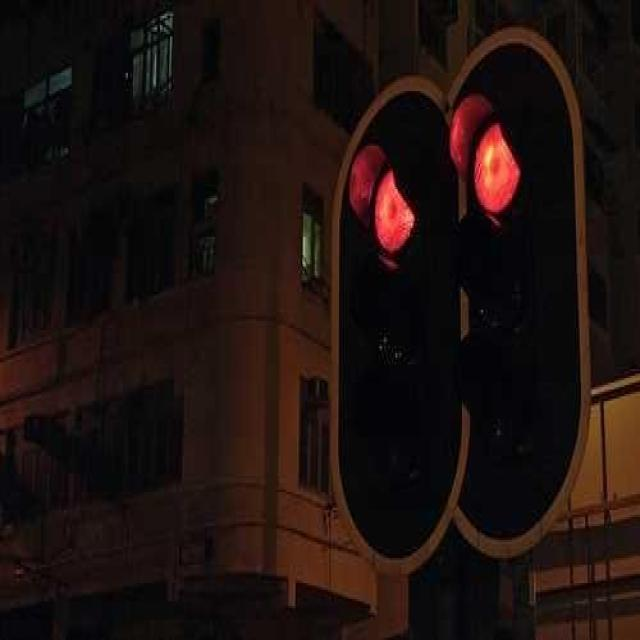Traffic Light -Green-: (441, 51, 570, 551), (322, 82, 440, 562)
